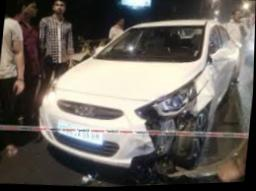Bumper: (117, 112, 187, 171)
Fender: (190, 68, 215, 116)
Light: (136, 84, 194, 118)
